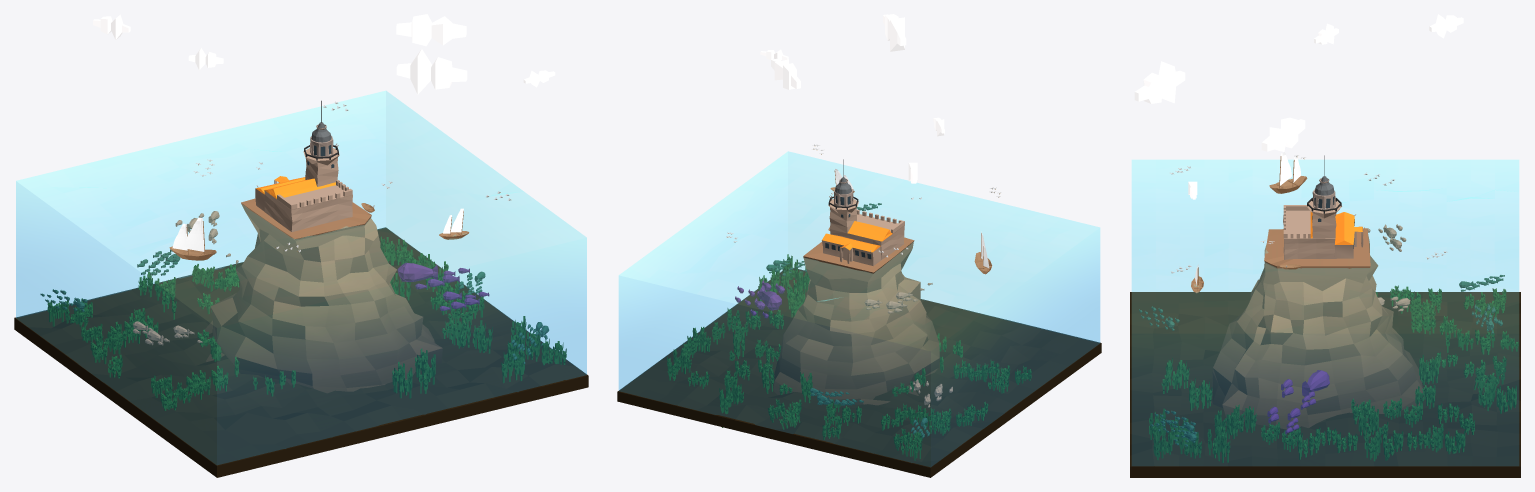
3 renders of one model, left to right at view 1: azimuth 30°, elevation 25°; view 2: azimuth 150°, elevation 25°; view 3: azimuth 270°, elevation 25°, orthographic. The views are drawn at different scales.
Parts seen in each view (by area): view 1: deniz1, zemin, pCylinder2, pCube743, pCube1, pCube751, pCube748, pCube2, pSphere52; view 2: deniz1, zemin, pCylinder2, pCube743, pCube1, pCube3, pCube751, pCube748; view 3: deniz1, zemin, pCylinder2, pCube743, pCube1, pCube751, pCube3, pCube748, pCube2, pCube749, pSphere52.
Boxes of the visible parts, box(x1,y1,x2,y2) form: deniz1: box(16, 91, 586, 464); zemin: box(14, 227, 588, 477); pCylinder2: box(201, 198, 442, 393); pCube743: box(47, 236, 566, 410); pCube1: box(264, 178, 352, 231); pCube751: box(396, 49, 467, 94); pCube748: box(396, 14, 466, 46); pCube2: box(305, 157, 338, 186); pSphere52: box(397, 262, 437, 281); deniz1: box(619, 151, 1099, 466); zemin: box(617, 268, 1101, 477); pCylinder2: box(773, 237, 939, 405); pCube743: box(667, 254, 1031, 460); pCube1: box(830, 209, 904, 260); pCube3: box(821, 233, 880, 265); pCube751: box(883, 14, 906, 51); pCube748: box(771, 58, 800, 89); deniz1: box(1132, 160, 1518, 465); zemin: box(1130, 292, 1520, 477); pCylinder2: box(1211, 228, 1423, 429); pCube743: box(1149, 285, 1518, 462); pCube1: box(1283, 205, 1336, 259); pCube751: box(1134, 61, 1185, 103); pCube3: box(1334, 212, 1363, 258); pCube748: box(1261, 117, 1305, 151); pCube2: box(1312, 213, 1336, 238); pCube749: box(1429, 14, 1463, 38); pSphere52: box(1302, 370, 1329, 396).
Bounding box in the file's own units: 20.3 × 19.25 × 19.19.
20 materials, 2 textured.
